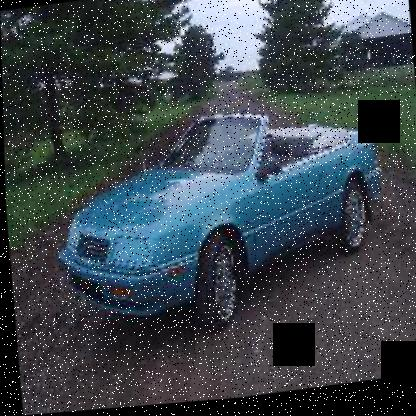not_emergency: (37, 86, 388, 367)
